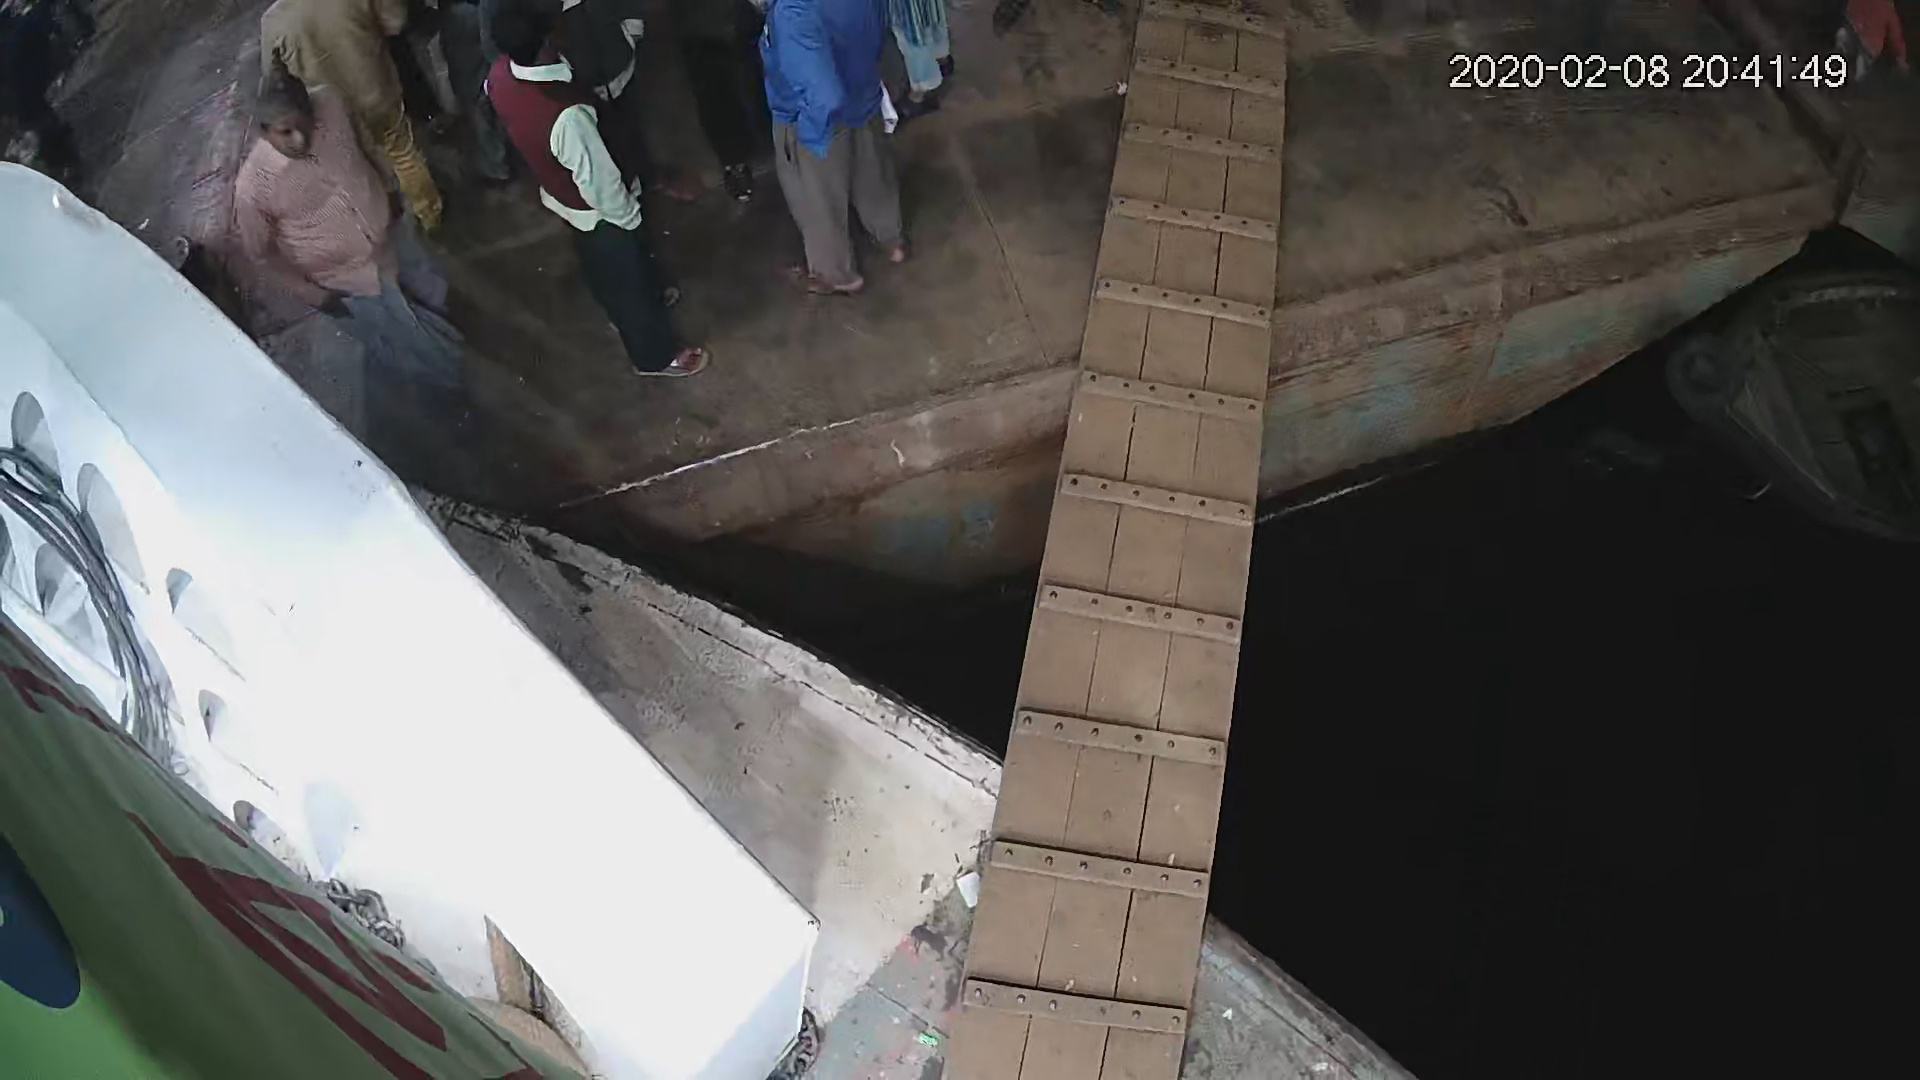person: (465, 1, 715, 386), (235, 78, 479, 401), (761, 1, 913, 303)
